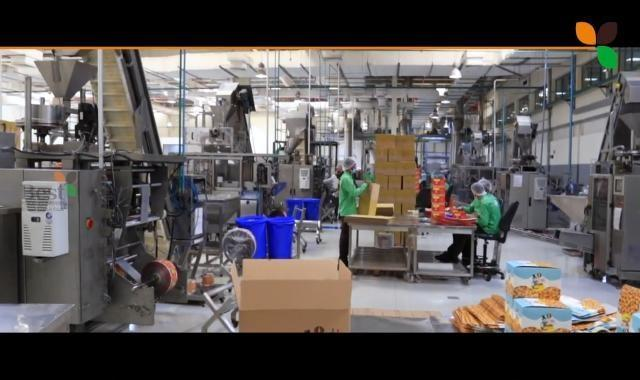gloves: (470, 181, 486, 197), (345, 157, 358, 172)
